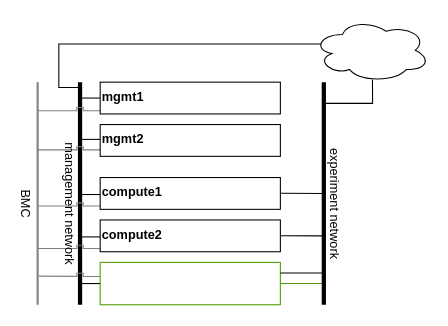
This 448x326 diagram has some shape labels left out. The shapes that lost their labels are listed below. From the top down, each one's centre as x and y in pixels, then its label:
At (x=371, y=49): "Internet".
At (x=189, y=283): "compute with hardware accelerator".
